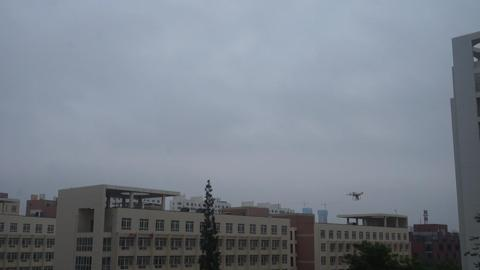UAV: (346, 192, 364, 201)
